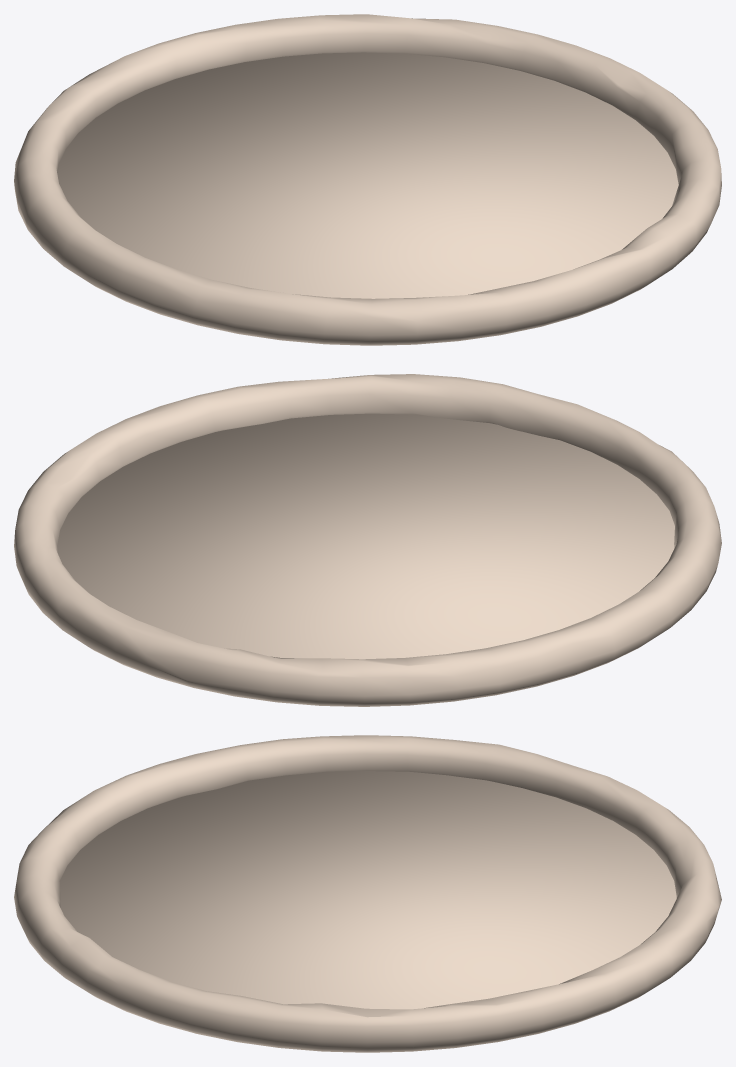
File: FlatPizzaDough.fbx
3 views of the same model, one above another, from view 1: azimuth 30°, elevation 25°; view 2: azimuth 150°, elevation 25°; view 3: azimuth 270°, elevation 25° (orthographic). The views are drawn at different scales.
Visible parts, largest first — view 1: Circle, Torus; view 2: Circle, Torus; view 3: Circle, Torus.
Part boxes in pixels (<box>): Circle: <box>57,52,678,298</box>; Torus: <box>14,14,721,345</box>; Circle: <box>57,413,674,659</box>; Torus: <box>14,374,721,706</box>; Circle: <box>59,771,676,1009</box>; Torus: <box>14,735,721,1052</box>.
Size of the model in its own units: 51.69 by 3.62 by 53.13.
